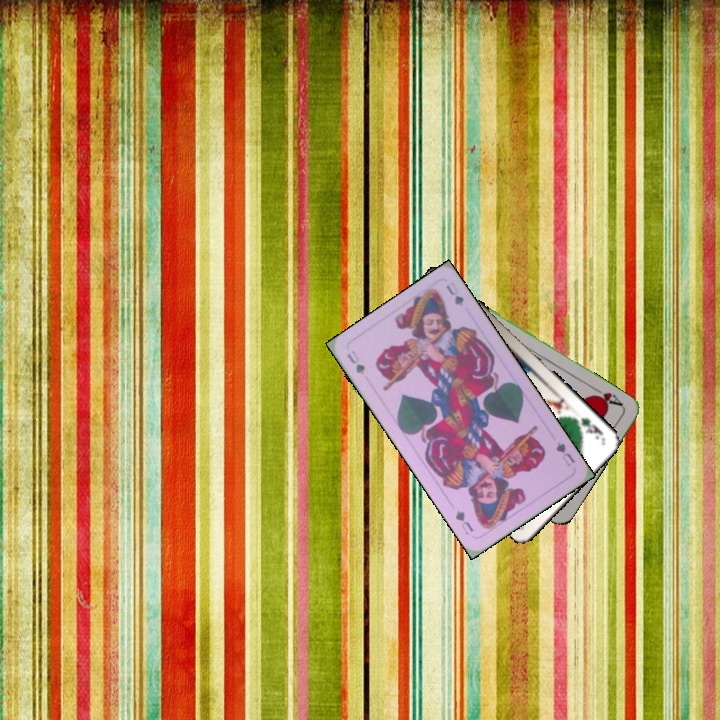GK: (569, 414, 606, 442)
GU: (552, 438, 577, 469), (343, 346, 368, 377)
HA: (588, 383, 626, 410)
